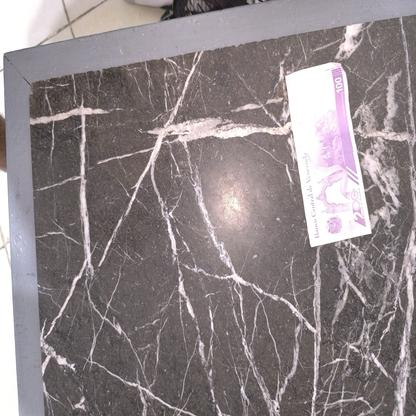one_hundred-back-vef: (284, 62, 372, 249)
